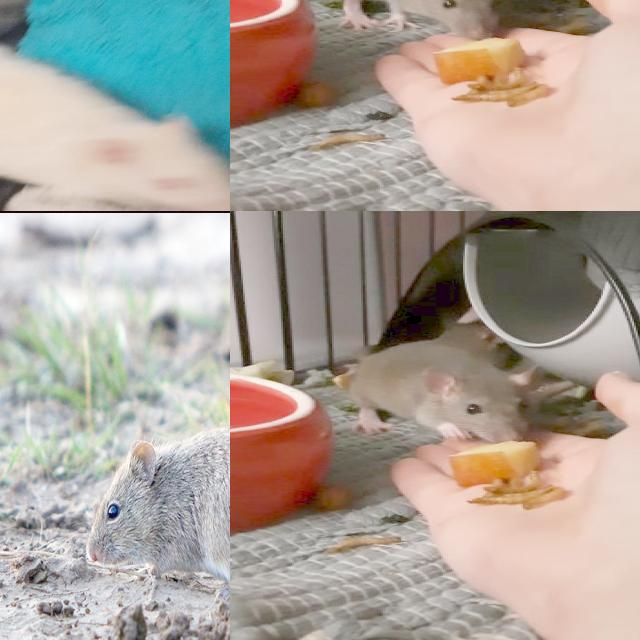rat: (0, 40, 230, 211), (84, 438, 230, 599), (353, 338, 540, 446), (324, 0, 511, 43)
